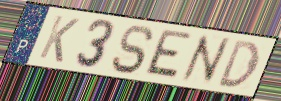3: (74, 18, 118, 71)
D: (216, 38, 262, 90)
E: (141, 28, 195, 82)
K: (36, 13, 81, 65)
N: (178, 33, 232, 85)
S: (109, 24, 156, 76)
